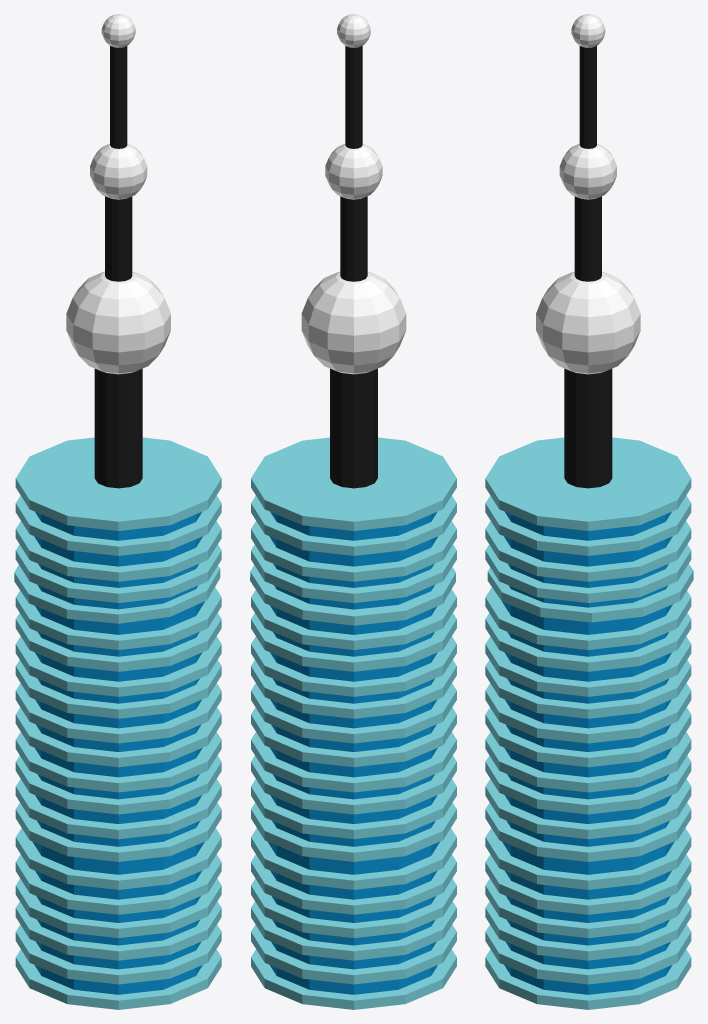
The model's file is building_round_tower.obj.
3 renders of one model, left to right at view 1: azimuth 30°, elevation 25°; view 2: azimuth 150°, elevation 25°; view 3: azimuth 270°, elevation 25°, orthographic.
Visible parts, largest first — view 1: mesh2063060906, mesh1470864700, mesh2066265066, mesh1713945990, mesh1787565560, mesh160232189, mesh1656510578, mesh1231117192, mesh813865462, mesh67905607, mesh15275137, mesh625253138 (+16 smaller); view 2: mesh2063060906, mesh1470864700, mesh2066265066, mesh1713945990, mesh1787565560, mesh1068090918, mesh1656510578, mesh1231117192, mesh813865462, mesh625253138, mesh67905607, mesh15275137 (+16 smaller); view 3: mesh2063060906, mesh1470864700, mesh2066265066, mesh1713945990, mesh1787565560, mesh160232189, mesh1656510578, mesh1231117192, mesh813865462, mesh67905607, mesh625253138, mesh15275137 (+16 smaller).
Boxes of the visible parts, <box> form: mesh2063060906: <box>32,512,205,994</box>; mesh1470864700: <box>15,437,221,530</box>; mesh2066265066: <box>66,271,170,374</box>; mesh1713945990: <box>94,368,142,488</box>; mesh1787565560: <box>15,828,221,889</box>; mesh160232189: <box>15,587,221,649</box>; mesh1656510578: <box>15,521,221,581</box>; mesh1231117192: <box>15,949,221,1009</box>; mesh813865462: <box>15,732,221,792</box>; mesh67905607: <box>15,636,221,696</box>; mesh15275137: <box>15,854,221,914</box>; mesh625253138: <box>15,495,221,555</box>; mesh2063060906: <box>267,512,440,994</box>; mesh1470864700: <box>251,437,456,530</box>; mesh2066265066: <box>301,271,406,374</box>; mesh1713945990: <box>330,368,377,488</box>; mesh1787565560: <box>251,828,456,889</box>; mesh1068090918: <box>250,565,455,625</box>; mesh1656510578: <box>251,521,456,581</box>; mesh1231117192: <box>251,949,456,1009</box>; mesh813865462: <box>251,732,456,792</box>; mesh625253138: <box>251,495,456,555</box>; mesh67905607: <box>251,636,456,696</box>; mesh15275137: <box>251,854,456,914</box>; mesh2063060906: <box>502,512,674,994</box>; mesh1470864700: <box>485,437,691,530</box>; mesh2066265066: <box>536,271,640,374</box>; mesh1713945990: <box>564,368,612,488</box>; mesh1787565560: <box>485,828,691,889</box>; mesh160232189: <box>485,587,691,649</box>; mesh1656510578: <box>485,521,691,581</box>; mesh1231117192: <box>485,949,691,1009</box>; mesh813865462: <box>485,732,691,792</box>; mesh67905607: <box>485,636,691,696</box>; mesh625253138: <box>485,495,691,555</box>; mesh15275137: <box>485,854,691,914</box>.
Bounding box in the file's own units: 0.6011 × 3.06 × 0.6065.
